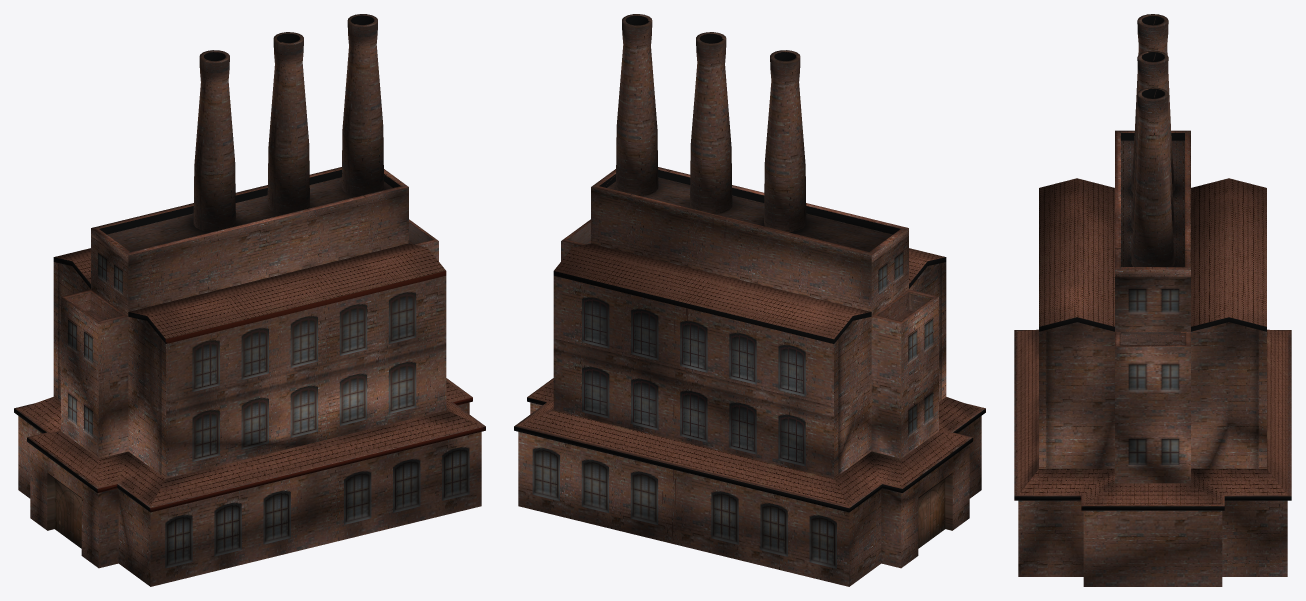
File: factory.fbx
The picture shows the model from 3 angles, left to right: view 1: azimuth 30°, elevation 25°; view 2: azimuth 150°, elevation 25°; view 3: azimuth 270°, elevation 25°; orthographic projection.
Visible parts, largest first — view 1: factory; view 2: factory; view 3: factory.
Part boxes in pixels (<box>): factory: <box>14,14,485,586</box>; factory: <box>514,14,985,586</box>; factory: <box>1014,14,1291,586</box>.
Bounding box in the file's own units: 2.07 × 2.38 × 1.31.
